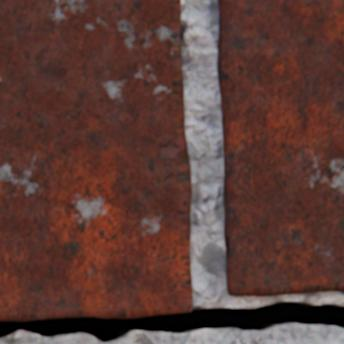brick: (0, 0, 191, 320), (216, 0, 343, 296)
crack: (0, 301, 343, 342)
